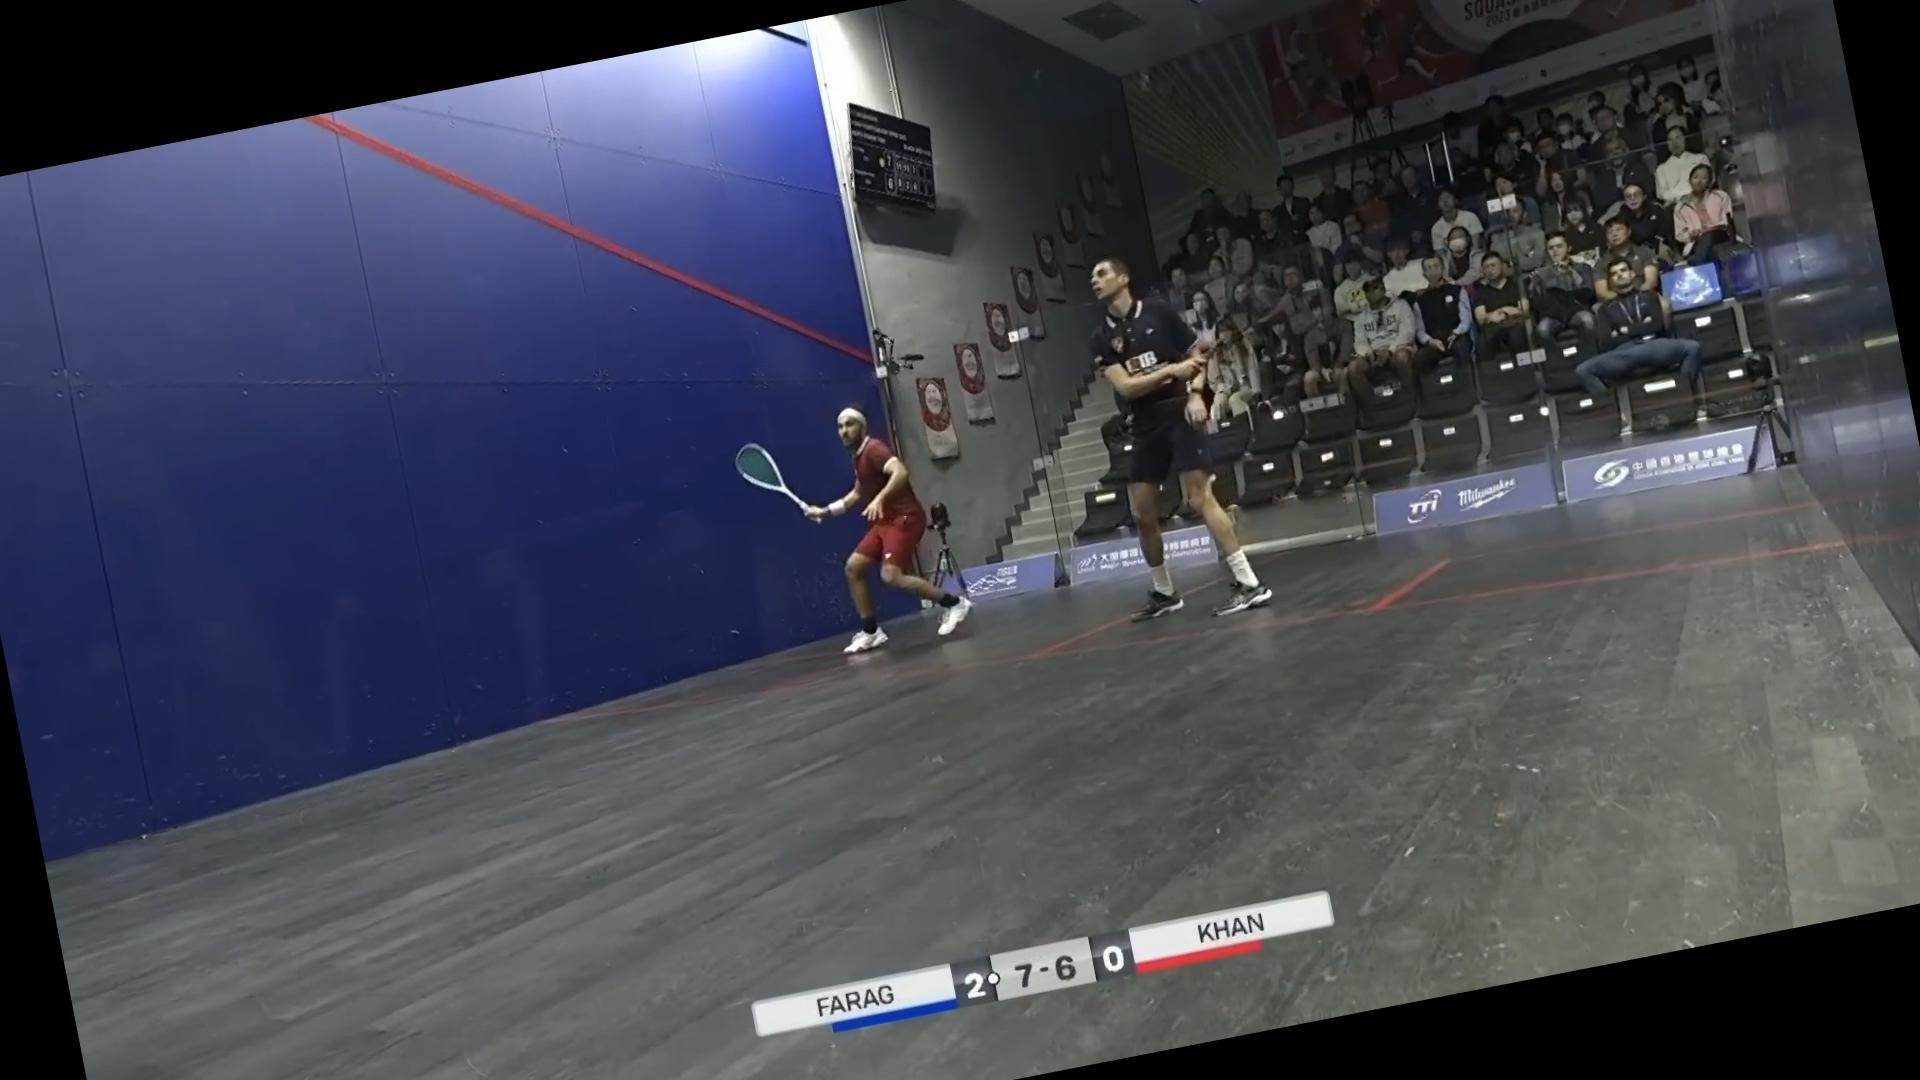Racket: (727, 427, 810, 529)
